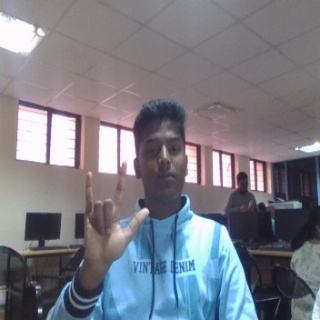Face: (132, 97, 190, 204)
I Love You: (82, 160, 150, 268)
